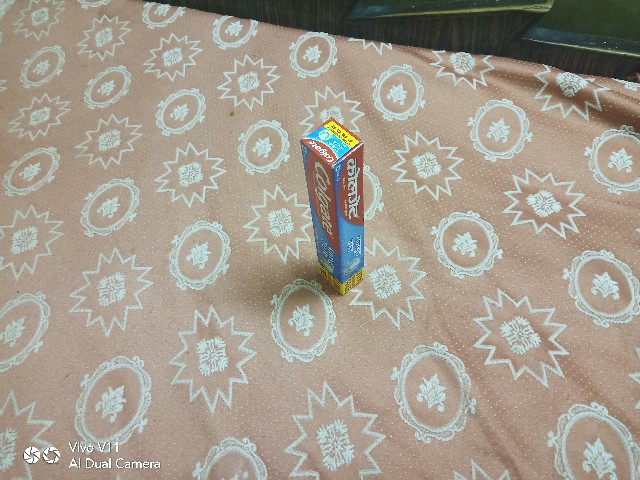colgatetoothpaste big: (288, 110, 381, 309)
